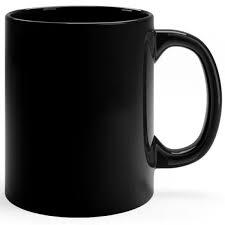Mug: (2, 2, 221, 220)
